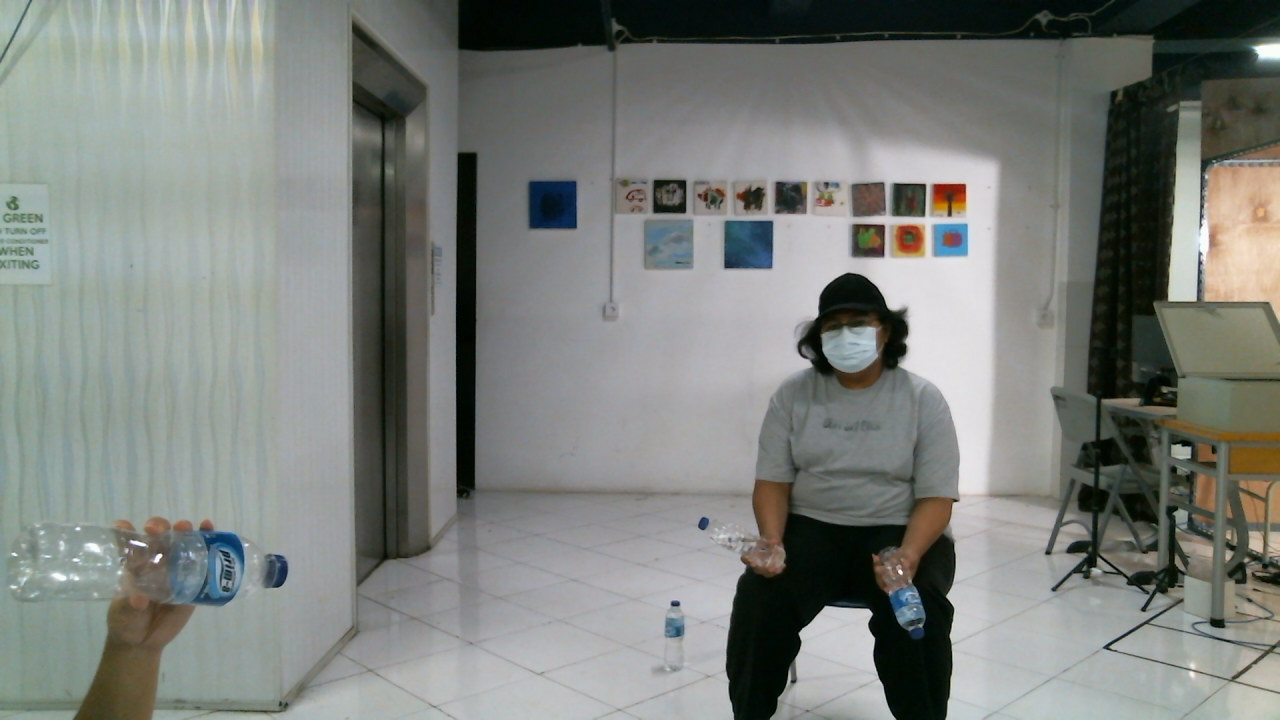Bottle: (5, 525, 294, 610)
